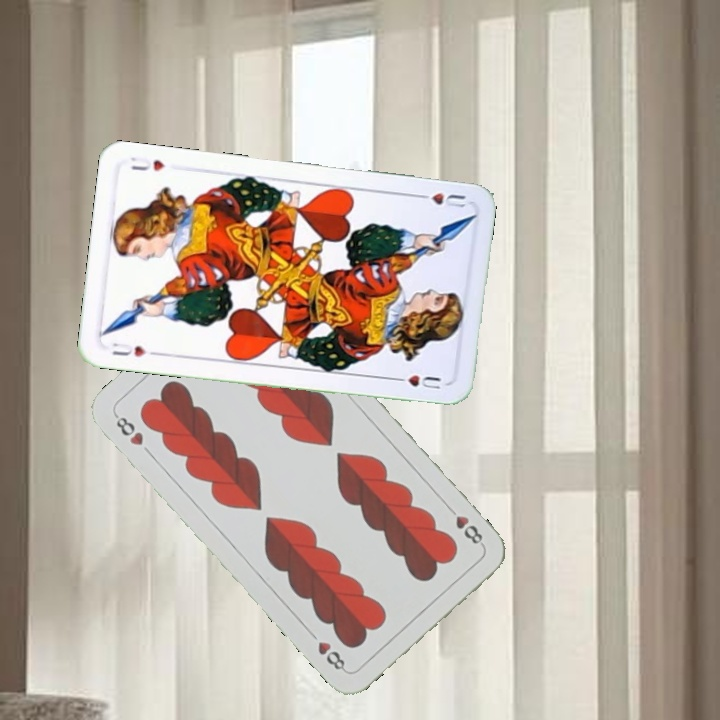H8: (442, 501, 487, 549), (110, 410, 146, 448)
HU: (411, 188, 469, 211), (108, 338, 161, 359)
